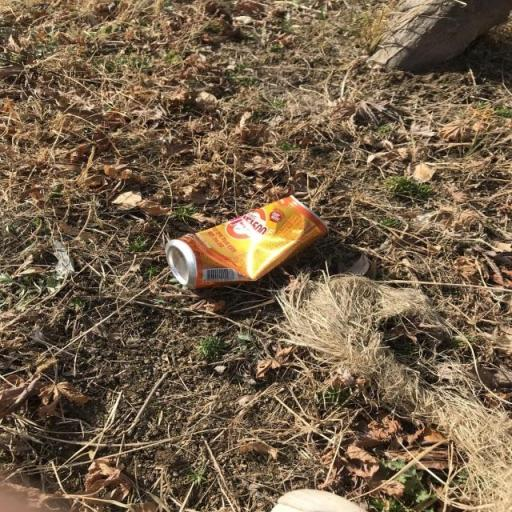metal: (131, 189, 354, 299)
